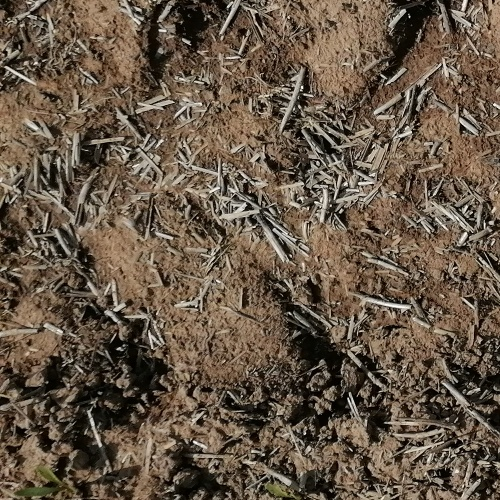beet: (20, 462, 71, 500)
